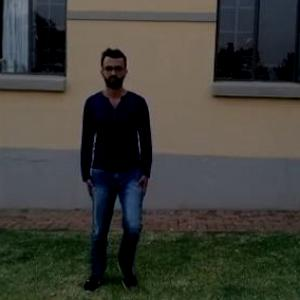follow: (85, 50, 153, 281)
